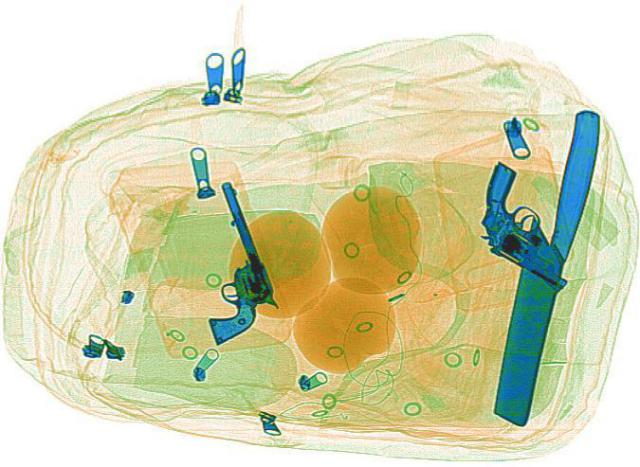Gun: (424, 159, 628, 290), (154, 179, 290, 344)
Knife: (481, 105, 607, 426)
